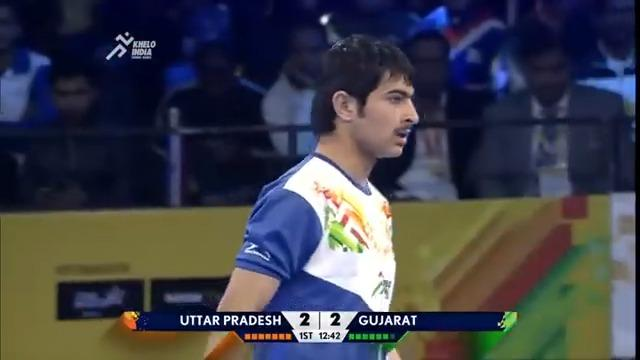Player: (201, 32, 421, 358)
